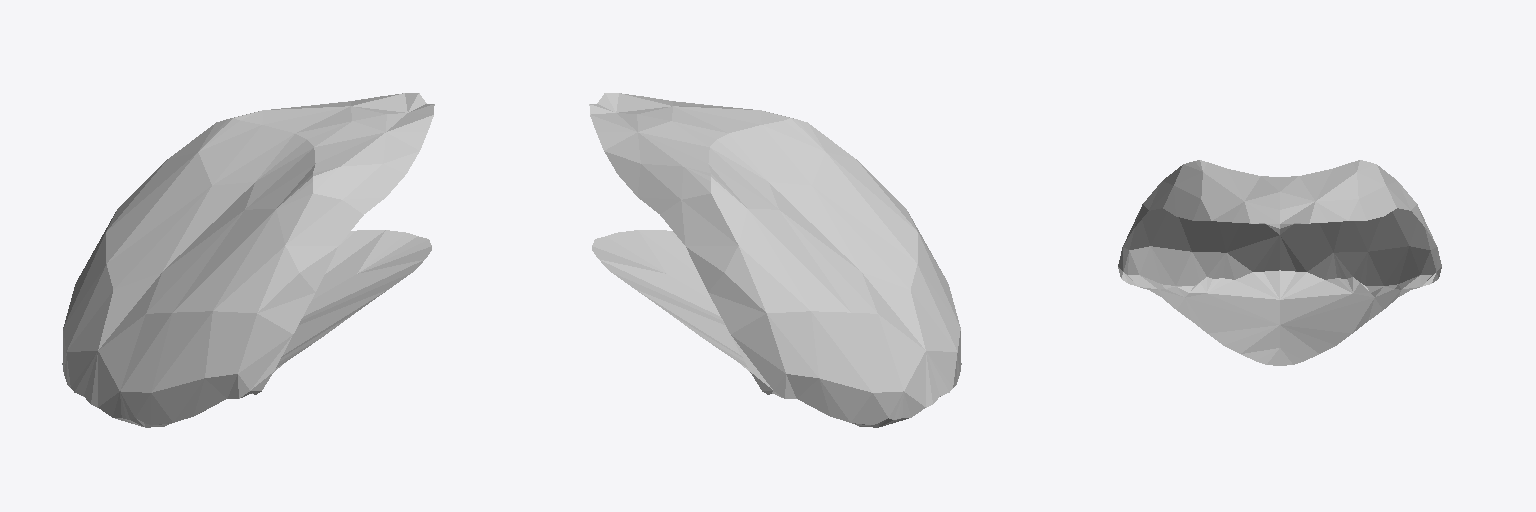
File: SalmonMouth.obj
3 views of the same model, side by side, from view 1: azimuth 30°, elevation 25°; view 2: azimuth 150°, elevation 25°; view 3: azimuth 270°, elevation 25° (orthographic).
Visible parts, largest first — view 1: sal_mouth; view 2: sal_mouth; view 3: sal_mouth.
Boxes of the visible parts, <box> form: sal_mouth: <box>62,93,434,427</box>; sal_mouth: <box>589,93,961,427</box>; sal_mouth: <box>1118,160,1441,365</box>.
Bounding box in the file's own units: 0.1047 × 0.0669 × 0.0848.